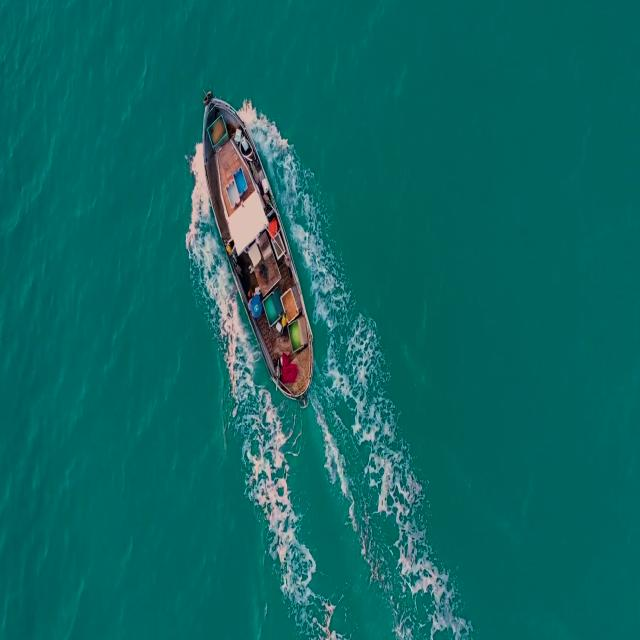ship: (196, 84, 315, 404)
